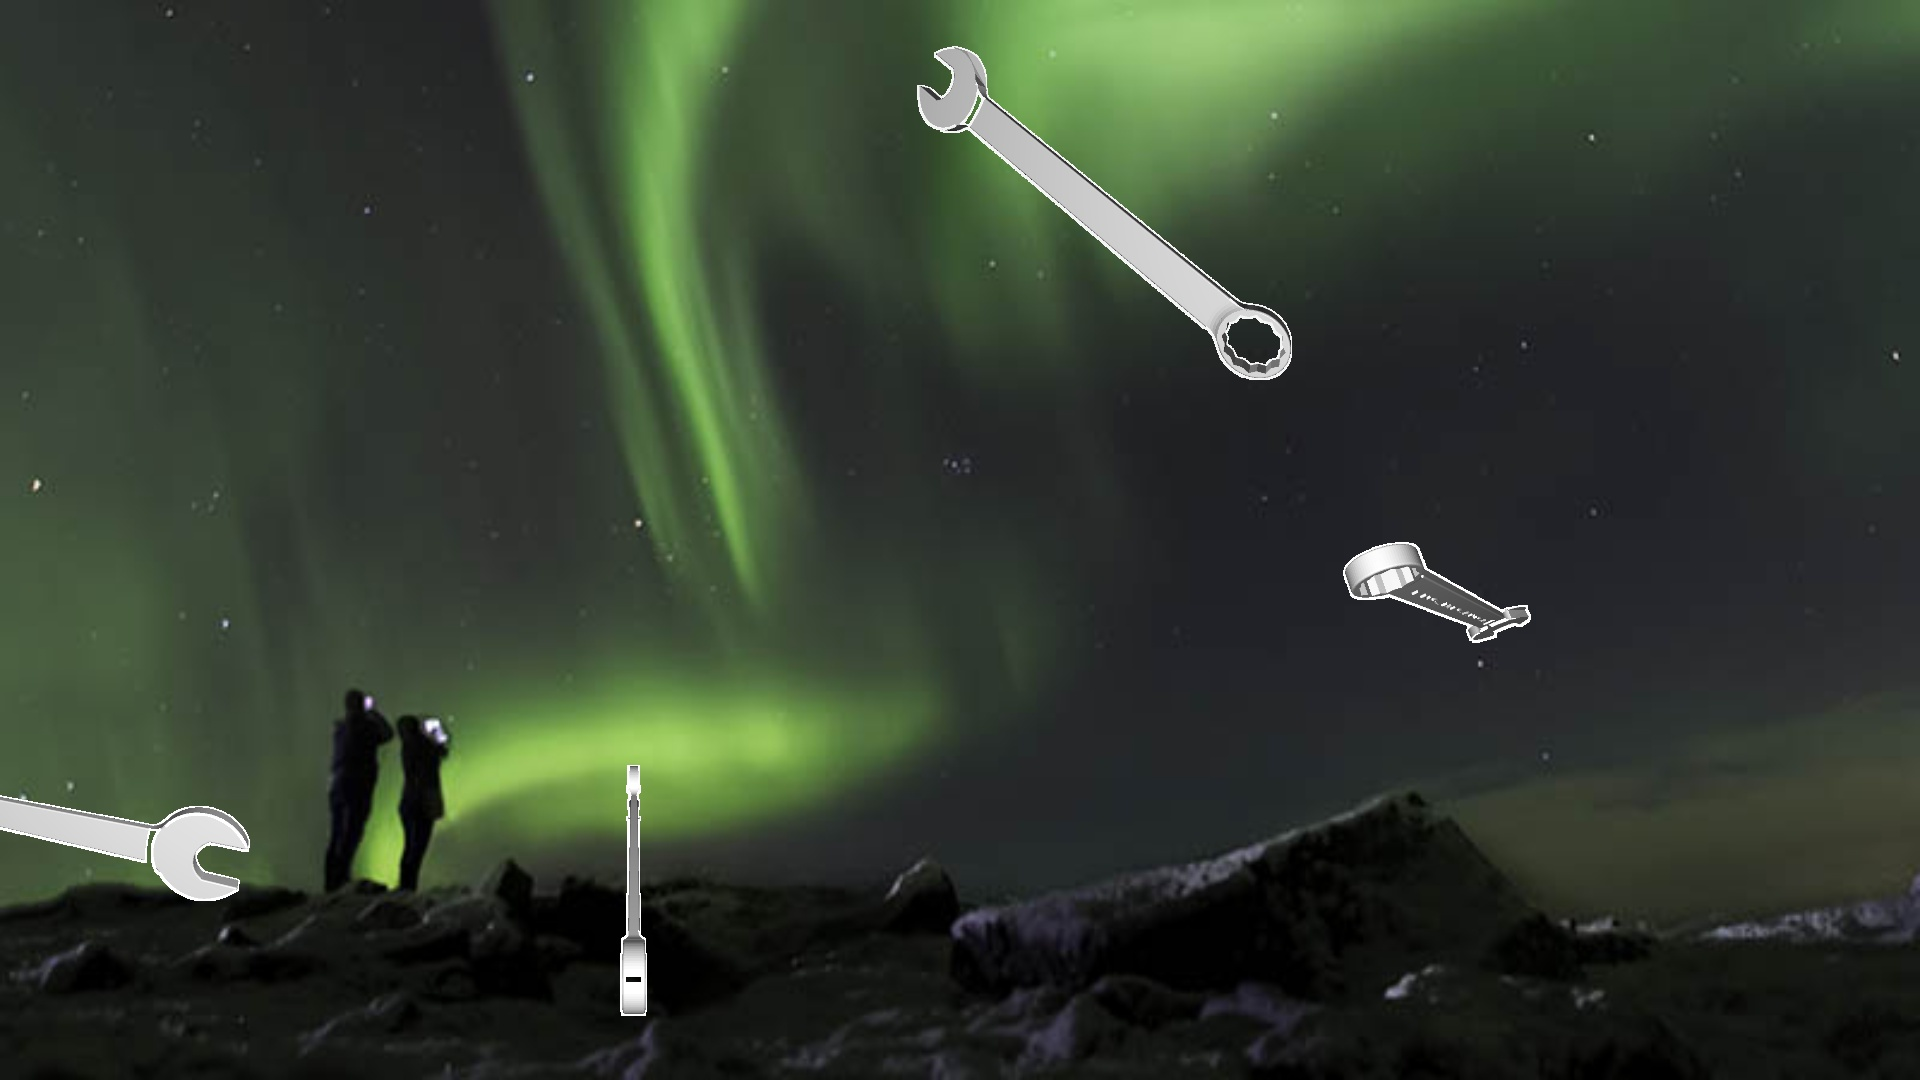Mixed Key: (916, 46, 1291, 378), (0, 795, 249, 899), (1342, 542, 1530, 642), (620, 765, 646, 1015)
